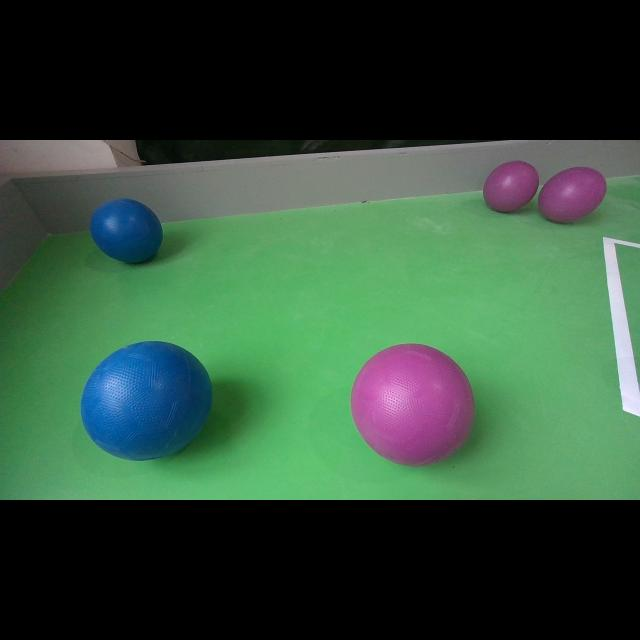B: (80, 340, 214, 462), (90, 197, 162, 263)
P: (351, 343, 474, 465), (538, 166, 608, 224), (482, 160, 540, 212)
